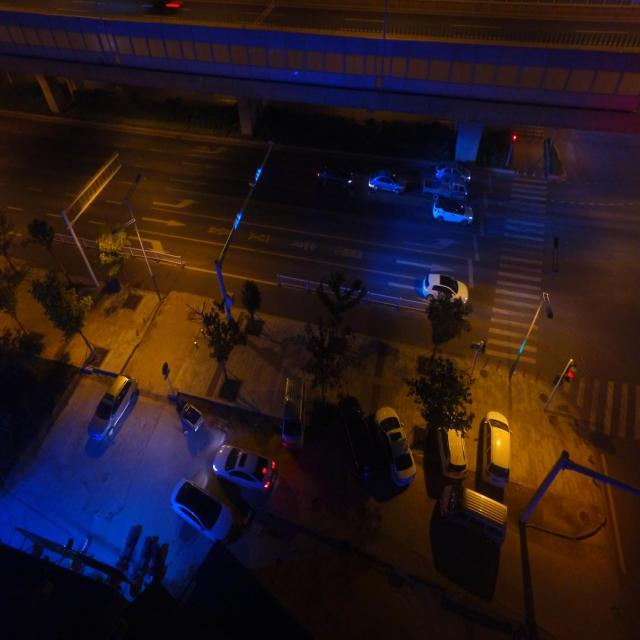car: (86, 373, 139, 444), (212, 444, 277, 495), (422, 273, 469, 307), (432, 196, 474, 225), (316, 164, 355, 191), (368, 172, 406, 195), (179, 400, 204, 434), (435, 162, 471, 185)
tree: (184, 295, 250, 400), (402, 352, 476, 444), (424, 292, 472, 358), (94, 228, 133, 294), (239, 278, 263, 334)
